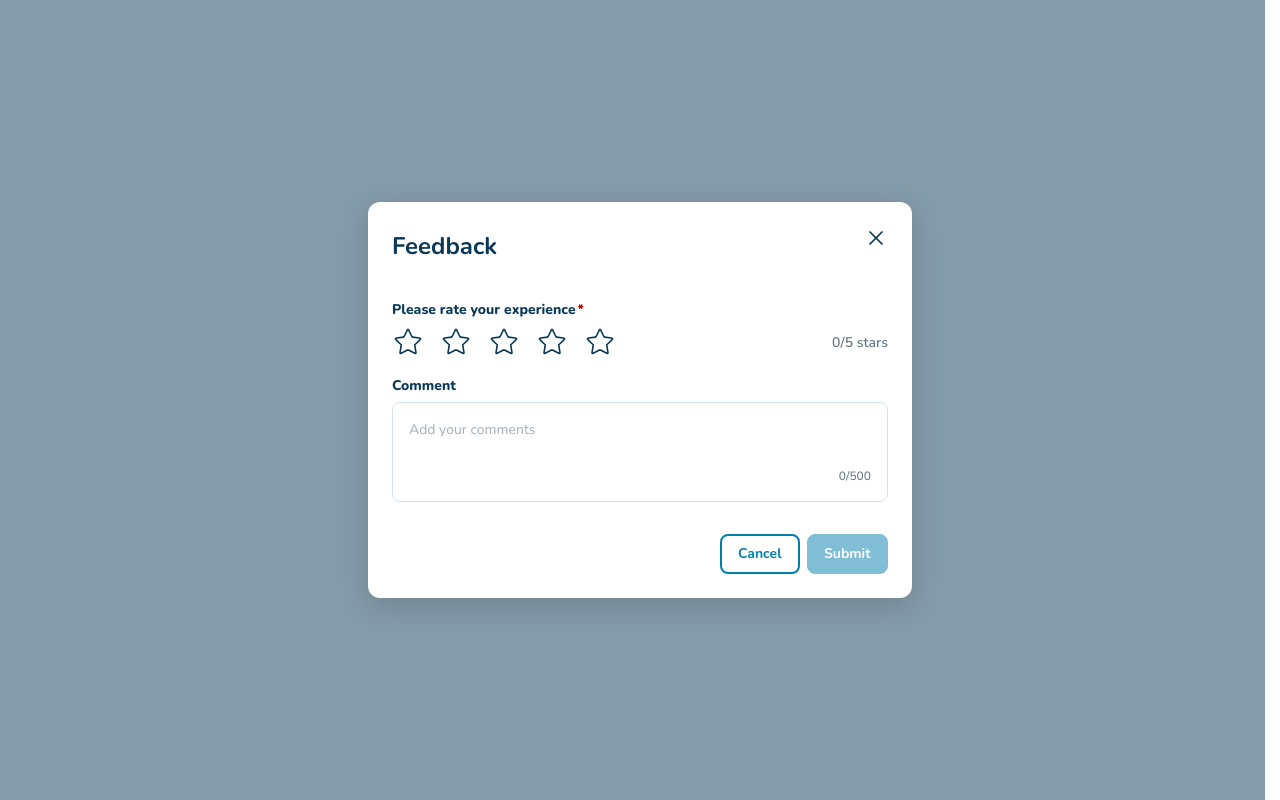
FeedbackModal Component - Edge Cases & Interactions (MR 2) › edge case: entering non-empty comment for low rating clears warning and enables Submit button
Step 1. Click the button with test id "feedback-star-2" → (456, 342), box [440,326,472,358]
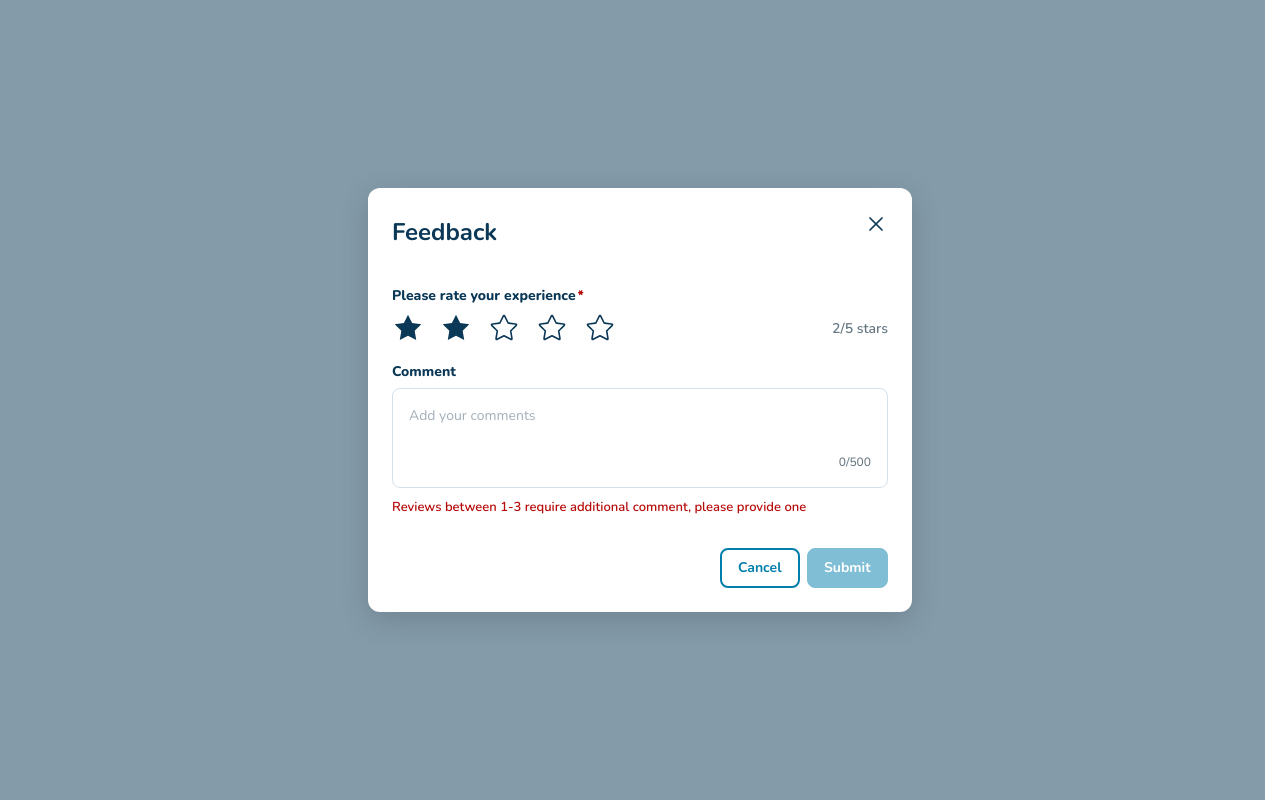
Step 2. Type "Average tour experience" into the text box with test id "feedback-comment-input" → (640, 429), box [409,405,871,453]
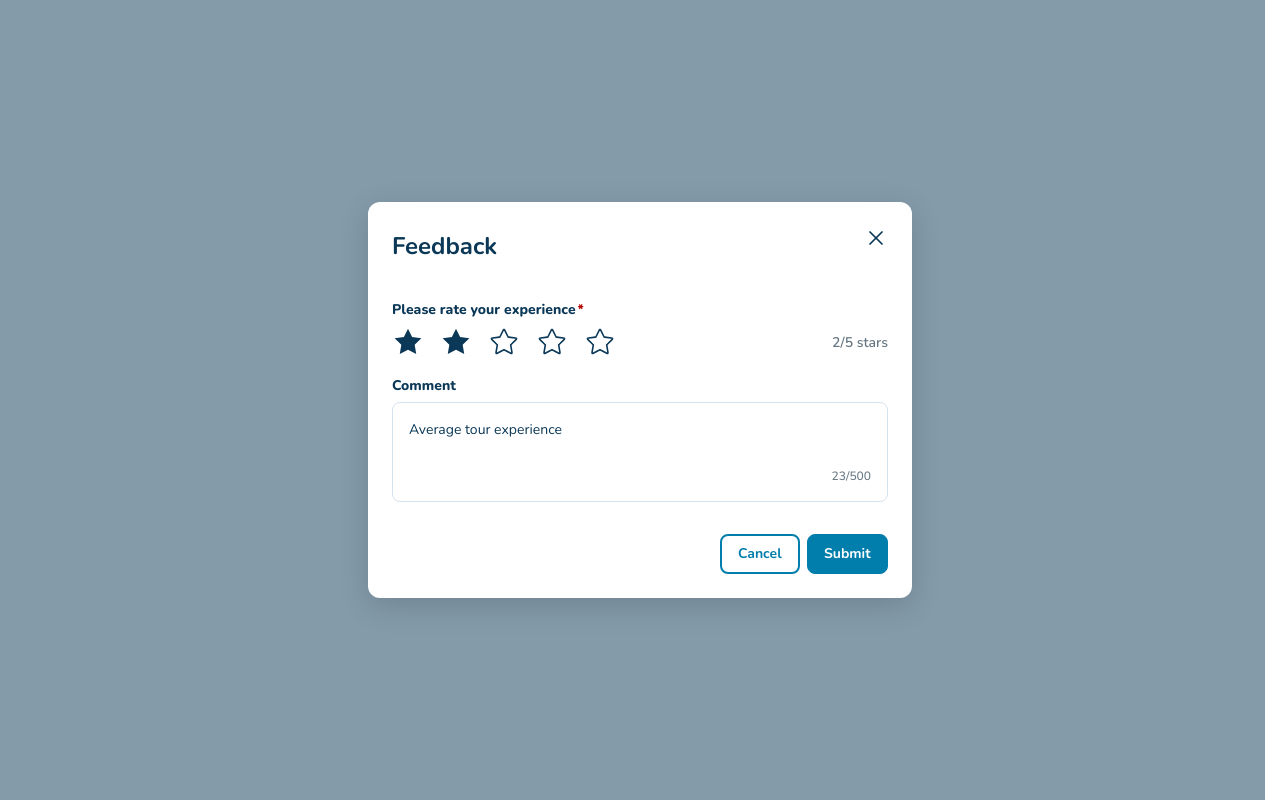
Now the message with test id "feedback-low-rating-warning" is gone
Now the text with test id "feedback-char-counter" reads "23/500", box [832,467,871,485]
Now the button with test id "feedback-submit-btn" is enabled, box [807,534,888,574]
